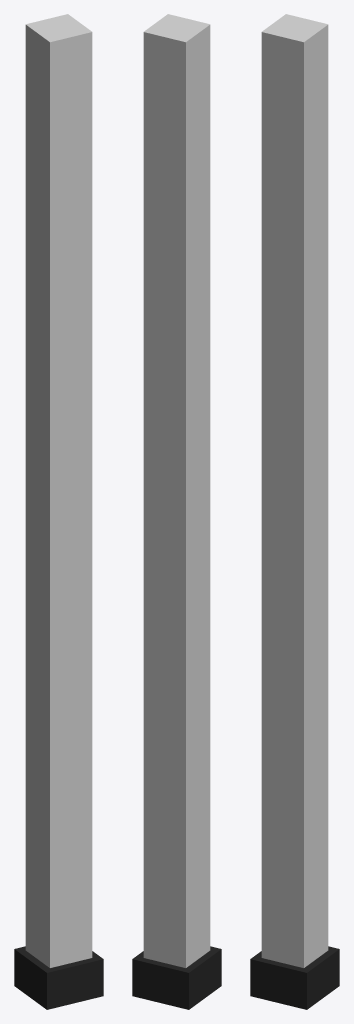
Rendered from corner_01.glb.
3 views of the same model, side by side, from view 1: azimuth 30°, elevation 25°; view 2: azimuth 150°, elevation 25°; view 3: azimuth 330°, elevation 25° (orthographic).
Visible parts, largest first — view 1: Untitled; view 2: Untitled; view 3: Untitled.
Part boxes in pixels (x1,y1,x2,y2): Untitled: (14,14,103,1009); Untitled: (132,14,221,1009); Untitled: (250,14,339,1009).
Bounding box in the file's own units: 0.24 × 3.9 × 0.24.
1 material, 1 textured.
